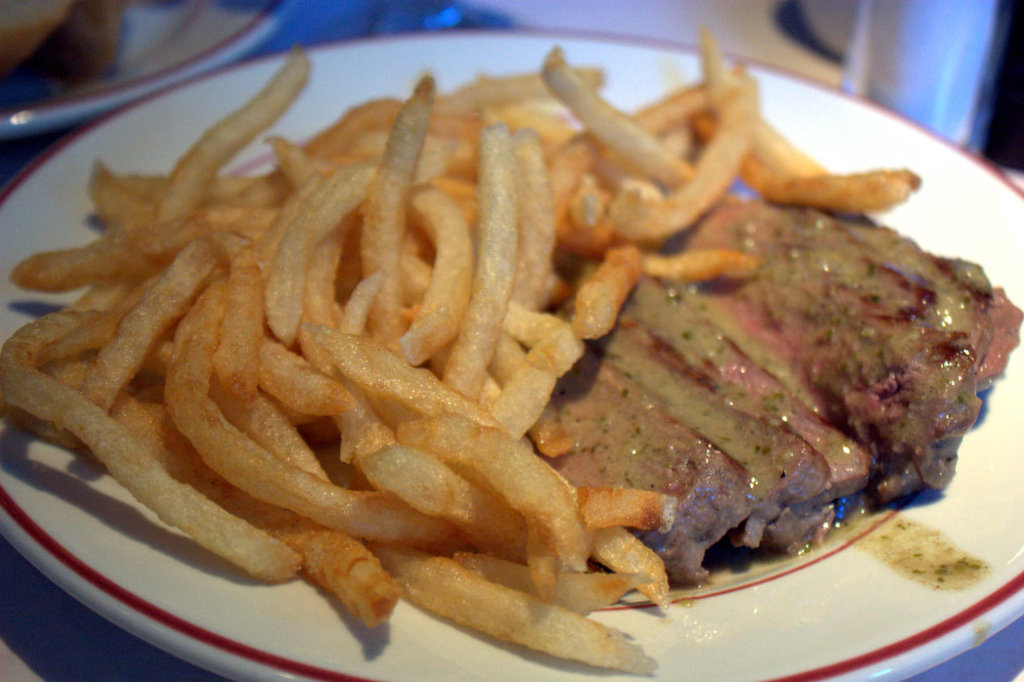French fries: (27, 22, 932, 655)
